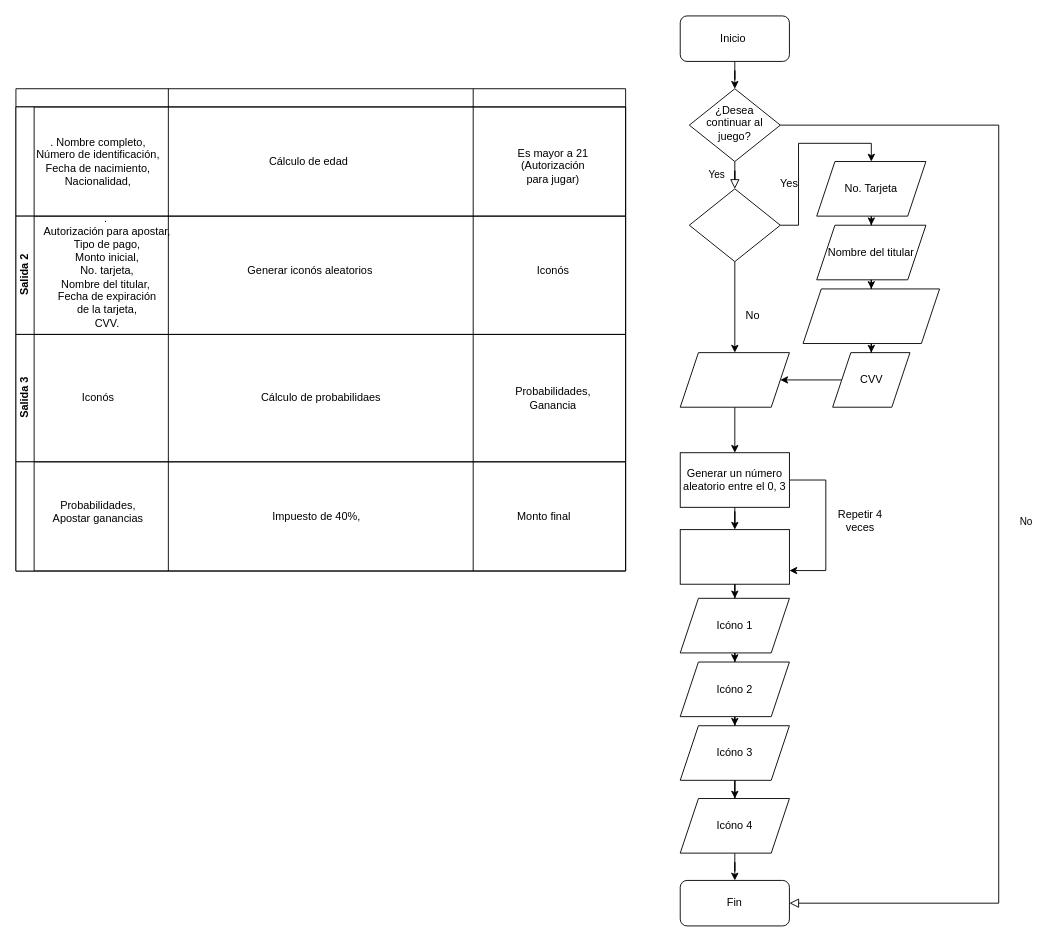
Some shapes in this 1048 by 942 pixel diagram are drawn without their labels. Each missing label, with the box of its shape:
Comparar número con variable string en el vector: (679, 529, 789, 584)
Entradas Procesos Salidas: (15, 88, 626, 571)
Fecha de expiración: (802, 288, 940, 344)
Monto inicial: (679, 352, 789, 407)
Salida 1: (15, 106, 626, 216)
Salida 4: (15, 461, 626, 571)
¿Desea pagar con tarjeta?: (688, 188, 780, 262)
